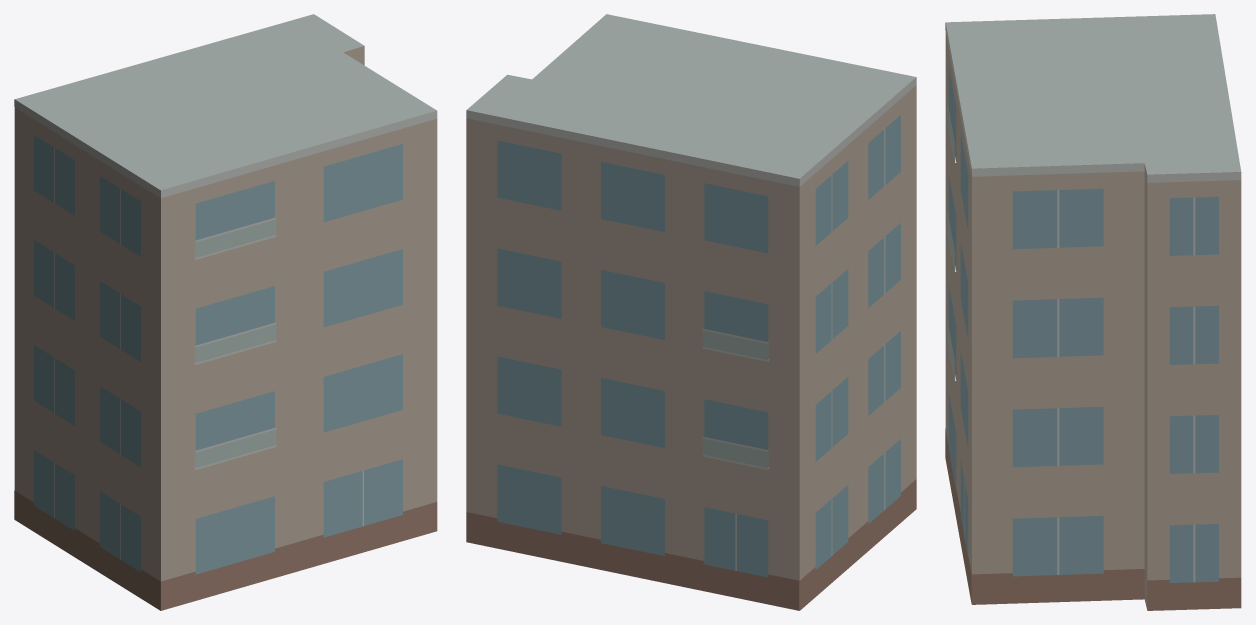
File: survey-upis-32701907.glb
3 views of the same model, side by side, from view 1: azimuth 30°, elevation 25°; view 2: azimuth 150°, elevation 25°; view 3: azimuth 270°, elevation 25° (orthographic). The views are drawn at different scales.
Visible parts, largest first — view 1: survey-upis-32701907.tmp; view 2: survey-upis-32701907.tmp; view 3: survey-upis-32701907.tmp.
Part boxes in pixels (x1,y1,x2,y2): survey-upis-32701907.tmp: [14, 14, 437, 610]; survey-upis-32701907.tmp: [466, 14, 916, 610]; survey-upis-32701907.tmp: [945, 14, 1241, 610].
Size of the model in its own units: 10.28 by 13 by 8.
